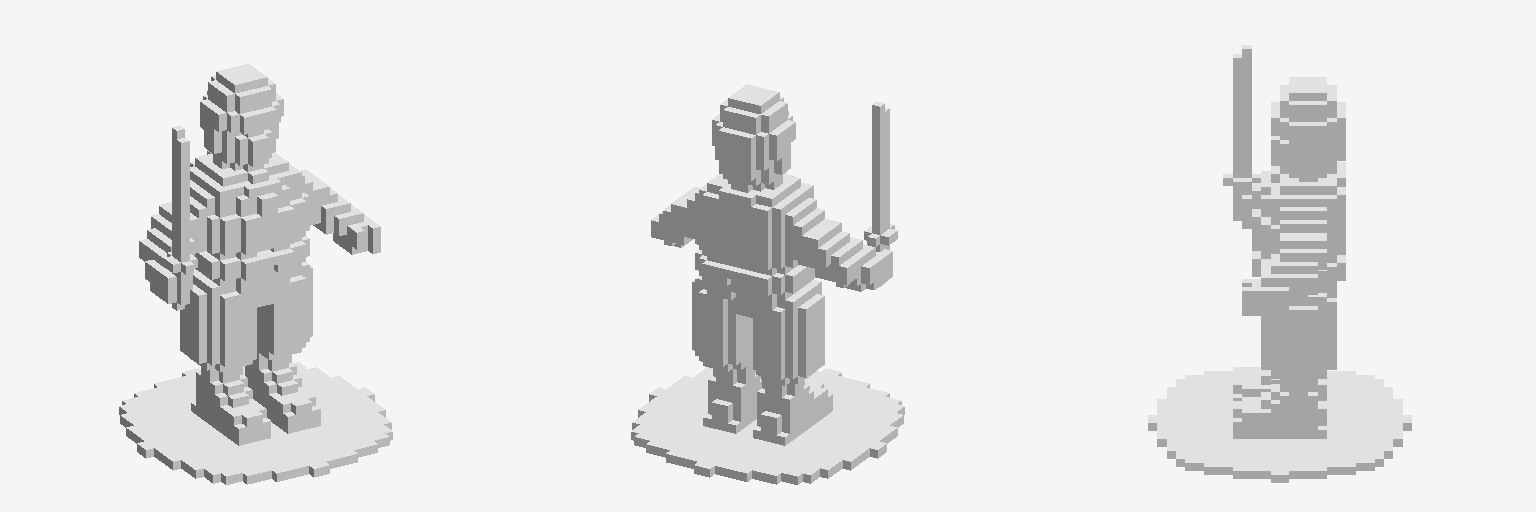
The model's file is Foot_Soldier.obj.
The picture shows the model from 3 angles: view 1: azimuth 30°, elevation 25°; view 2: azimuth 150°, elevation 25°; view 3: azimuth 270°, elevation 25°; orthographic projection.
Parts seen in each view (by area): view 1: Foot_Soldier; view 2: Foot_Soldier; view 3: Foot_Soldier.
Boxes of the visible parts, <box> form: Foot_Soldier: <box>119,63,392,484</box>; Foot_Soldier: <box>631,84,904,484</box>; Foot_Soldier: <box>1148,45,1411,482</box>.
Bounding box in the file's own units: 28 × 40 × 28.